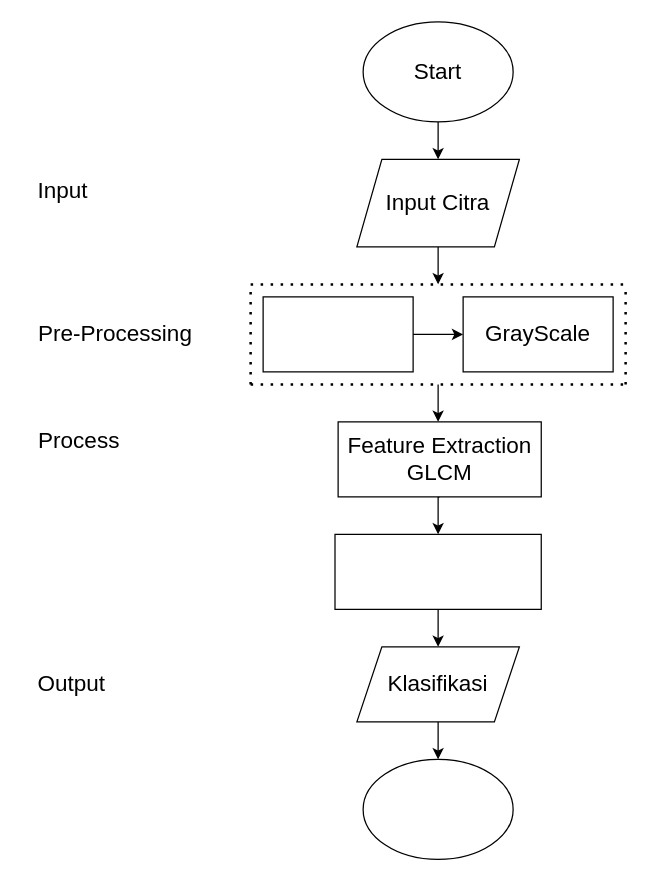
The diagram is 649 pixels wide and 881 high, and some of its shapes have lost their labels. The box of each missing label's shape, as (x1, y1, x2, y2) in pixels:
Cropping: (262, 296, 413, 372)
Naive Bayes: (334, 533, 541, 609)
Stop: (362, 758, 513, 859)
